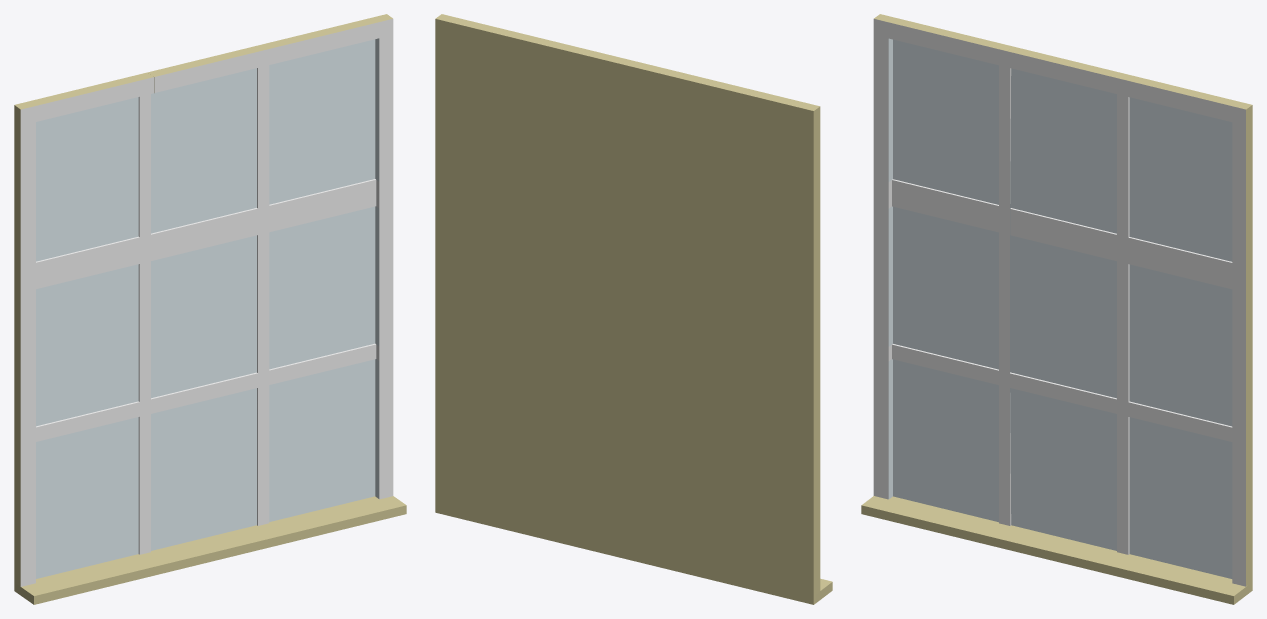
File: window.fbx
The picture shows the model from 3 angles, left to right: view 1: azimuth 30°, elevation 25°; view 2: azimuth 150°, elevation 25°; view 3: azimuth 330°, elevation 25°; orthographic projection.
Visible parts, largest first — view 1: Cube.063; view 2: Cube.063; view 3: Cube.063.
Part boxes in pixels (x1=…): Cube.063: x1=14, y1=14, x2=406, y2=604; Cube.063: x1=435, y1=14, x2=832, y2=604; Cube.063: x1=861, y1=14, x2=1252, y2=604.
Size of the model in its own units: 3277 by 4079 by 292.
